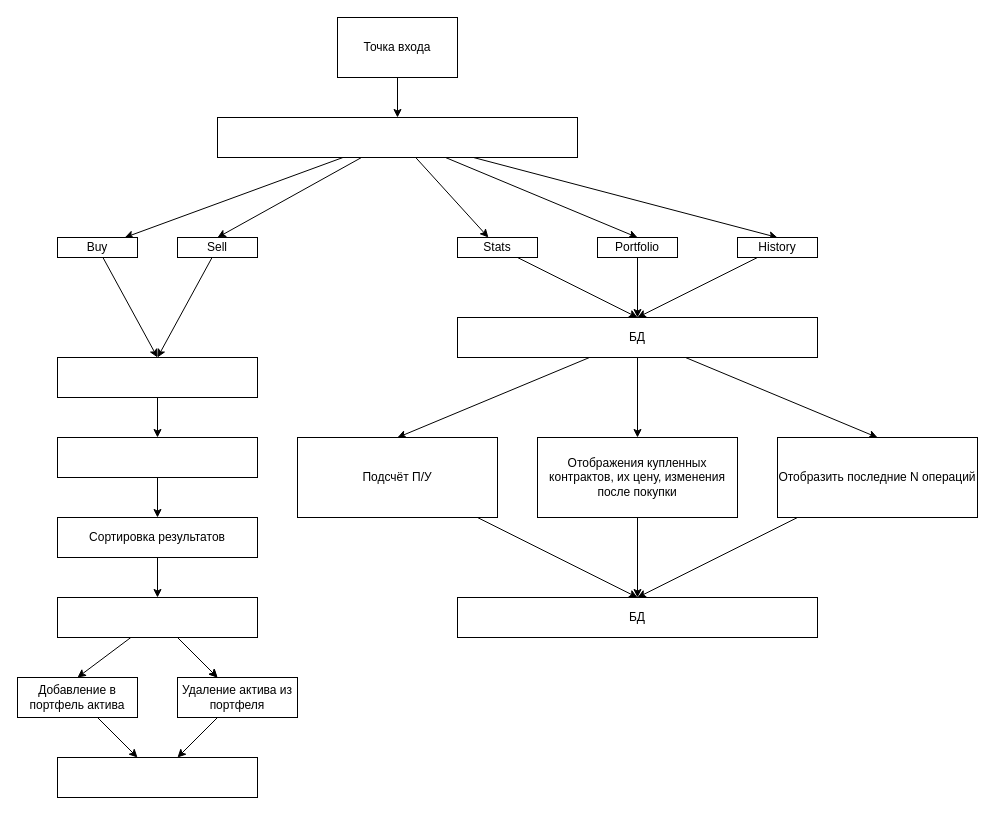
This 995x815 diagram has some shape labels left out. The centre of each missing label's shape, as x and y in pixels:
"CLI интерфейс (viper)" goes at (x=397, y=137).
"Запись транзакции в БД" goes at (x=157, y=617).
"Обновление баланса в БД" goes at (x=157, y=777).
"Обновление цен в портфеле" goes at (x=157, y=457).
"Парсинг актуальных котировок" goes at (x=157, y=377).
